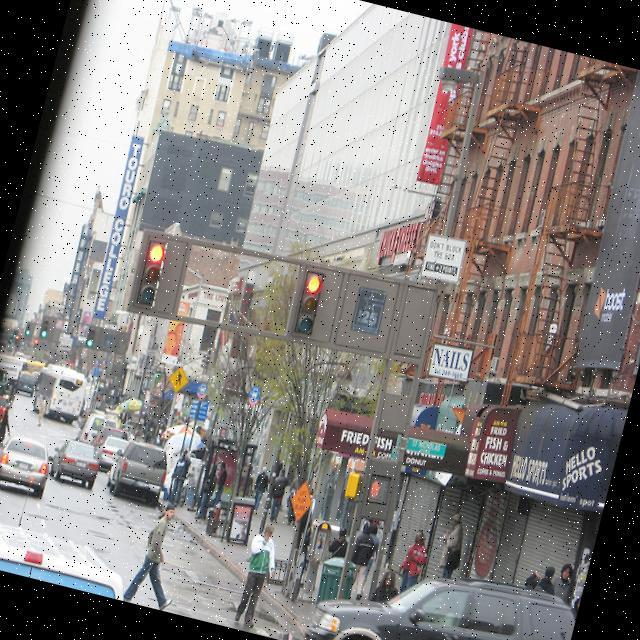fire_hydrant: (210, 499, 222, 525)
